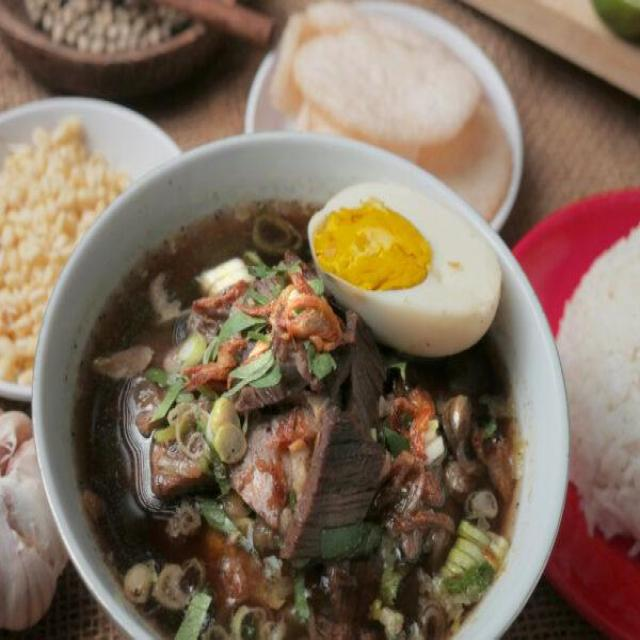Rawon: (65, 197, 517, 639)
